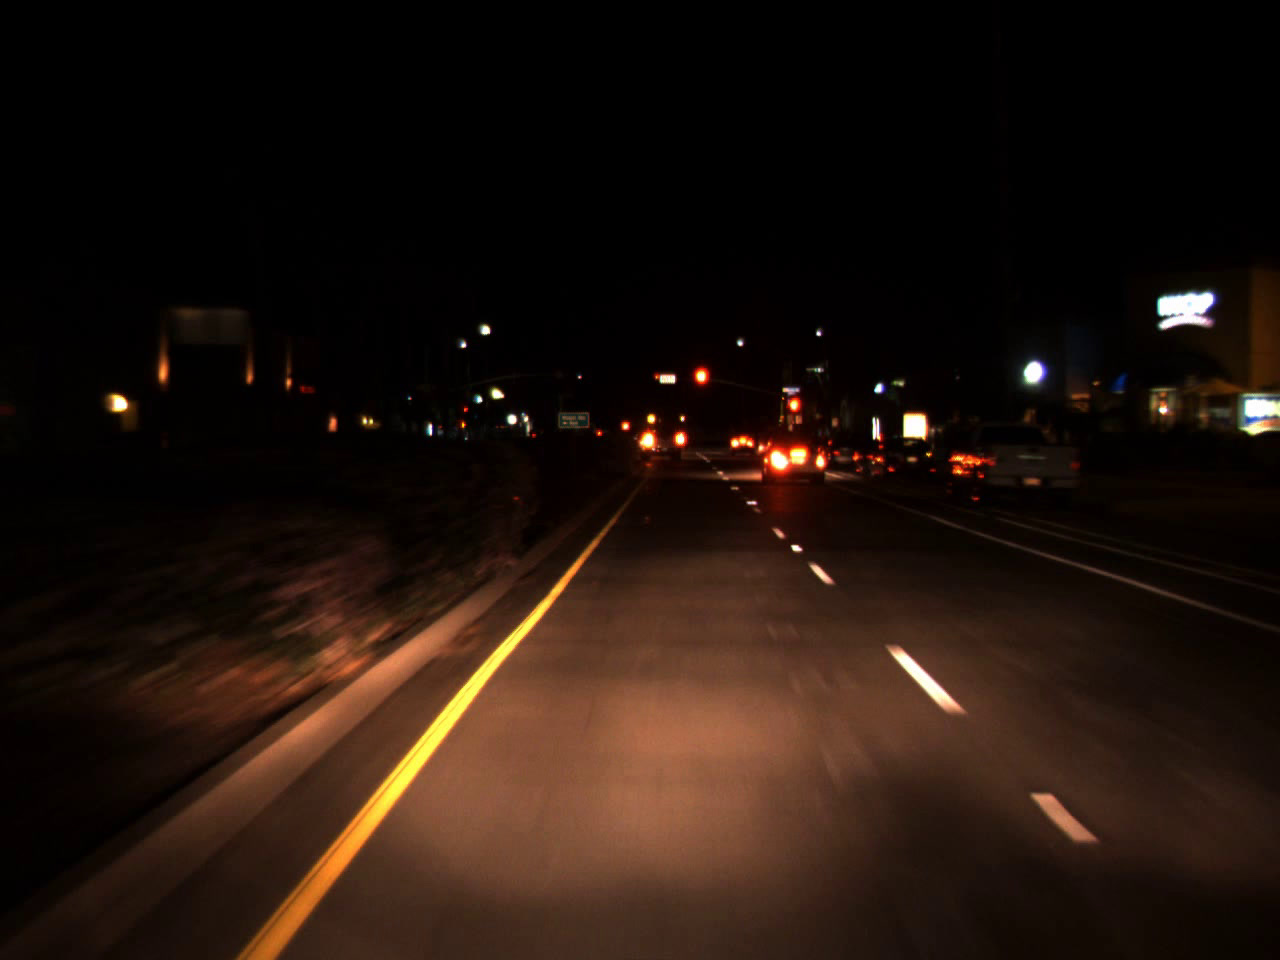stop: (691, 364, 710, 407), (785, 394, 803, 431), (653, 372, 660, 388), (462, 406, 468, 416)
